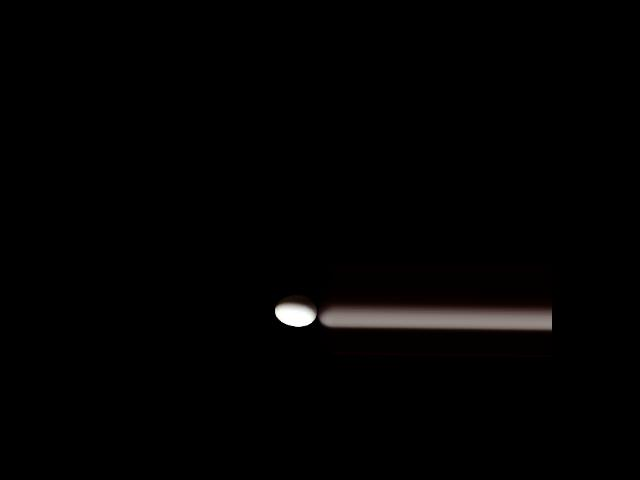egg: (274, 295, 317, 327)
